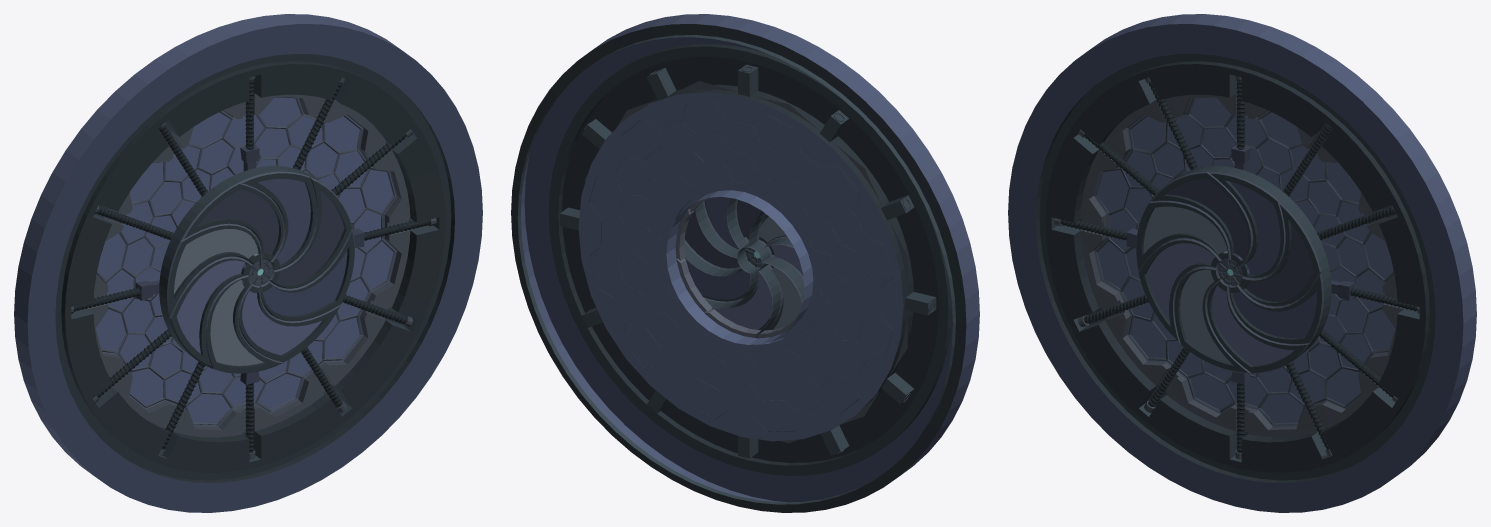
File: hex-tube-door-wall.fbx
3 renders of one model, left to right at view 1: azimuth 30°, elevation 25°; view 2: azimuth 150°, elevation 25°; view 3: azimuth 330°, elevation 25°, orthographic.
Visible parts, largest first — view 1: Circle.001, Cylinder.003, even.003, even.002, Circle.018, Circle.011, Circle.004, Circle.010, Circle.007, Circle.009, Circle.008, Circle.002 (+13 smaller); view 2: Circle.001, Cylinder.003, Circle.002, Circle.007, Circle.004, Circle.008, Cylinder.005, even.003, even.002, Circle.010, Circle.009, Circle.011 (+1 smaller); view 3: Circle.001, Cylinder.003, even.003, even.002, Circle.007, Circle.004, Circle.008, Circle.018, Circle.002, Circle.009, Circle.010, Circle.011 (+13 smaller).
Boxes of the visible parts, x1,y1,x2,y2 form: Circle.001: [14, 14, 482, 512]; Cylinder.003: [95, 97, 395, 425]; even.003: [87, 92, 410, 437]; even.002: [96, 97, 397, 426]; Circle.018: [173, 177, 283, 261]; Circle.011: [159, 223, 261, 317]; Circle.004: [231, 166, 316, 270]; Circle.010: [162, 256, 252, 368]; Circle.007: [269, 171, 352, 288]; Circle.009: [205, 275, 282, 373]; Circle.008: [260, 228, 354, 321]; Circle.002: [238, 283, 340, 362]; Circle.001: [511, 14, 979, 512]; Cylinder.003: [578, 92, 903, 441]; Circle.002: [699, 265, 780, 337]; Circle.007: [676, 202, 748, 276]; Circle.004: [695, 197, 748, 258]; Circle.008: [675, 237, 756, 308]; Cylinder.005: [675, 197, 796, 337]; even.003: [585, 81, 907, 443]; even.002: [589, 101, 892, 431]; Circle.010: [758, 238, 804, 302]; Circle.009: [754, 262, 802, 338]; Circle.011: [749, 214, 787, 252]; Circle.001: [1008, 14, 1476, 512]; Cylinder.003: [1095, 97, 1395, 425]; even.003: [1080, 93, 1404, 437]; even.002: [1093, 97, 1394, 426]; Circle.007: [1238, 195, 1328, 306]; Circle.004: [1208, 166, 1286, 278]; Circle.008: [1229, 266, 1331, 344]; Circle.018: [1150, 166, 1252, 266]; Circle.002: [1207, 279, 1317, 373]; Circle.009: [1174, 266, 1251, 373]; Circle.010: [1138, 238, 1221, 344]; Circle.011: [1136, 201, 1230, 272].
Bounding box in the file's own units: 77.73 × 6.9 × 77.73.
